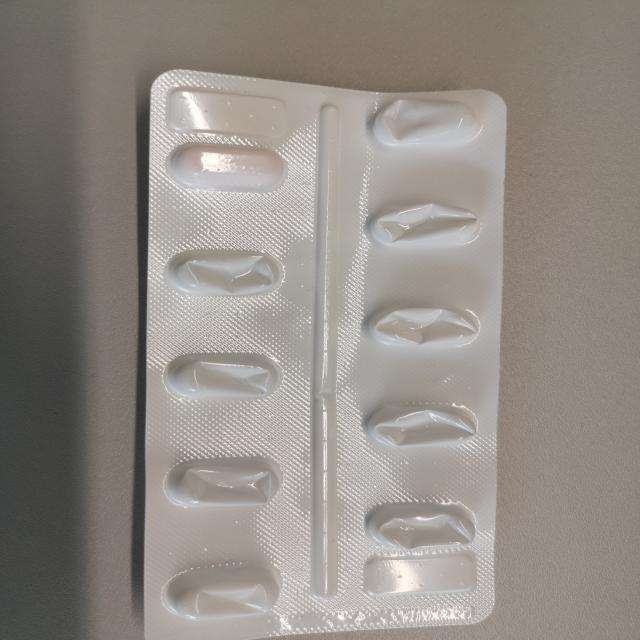Empty: (158, 560, 285, 622), (158, 347, 287, 405), (159, 453, 286, 510), (160, 244, 284, 300), (357, 299, 484, 353), (358, 199, 486, 252), (361, 500, 482, 556), (366, 93, 486, 149), (362, 398, 484, 452)
Pill: (161, 138, 289, 195)
